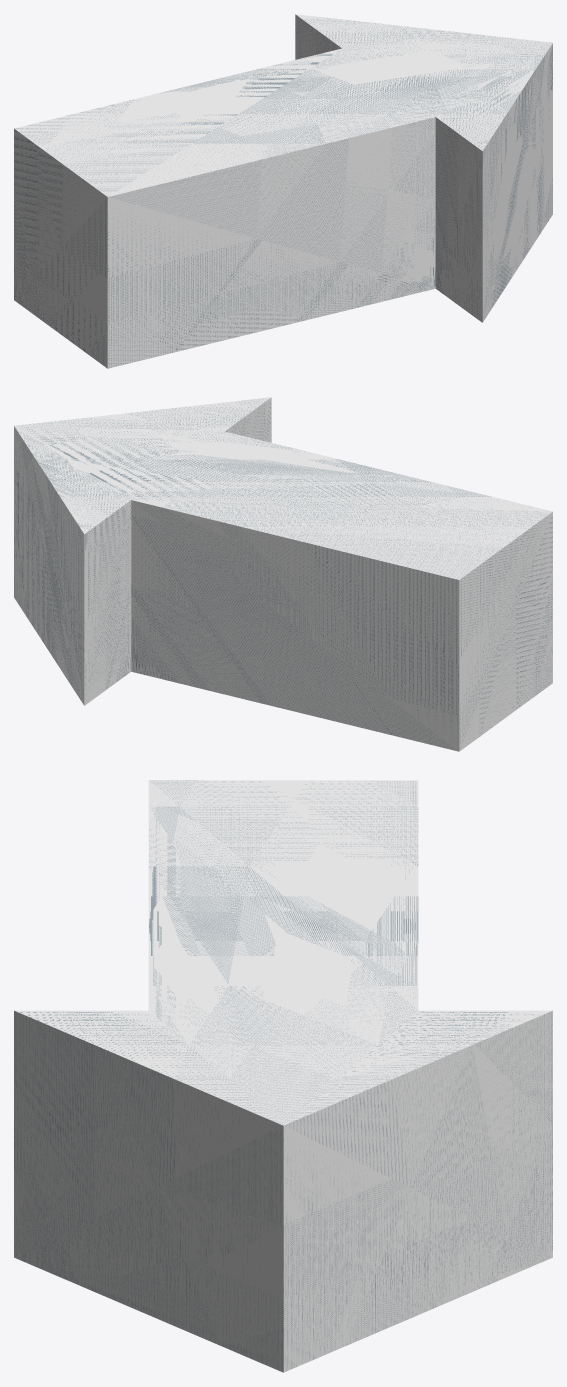
File: Arrow.fbx
3 views of the same model, one above another, from view 1: azimuth 30°, elevation 25°; view 2: azimuth 150°, elevation 25°; view 3: azimuth 270°, elevation 25° (orthographic). The views are drawn at different scales.
Parts seen in each view (by area): view 1: Group_1; view 2: Group_1; view 3: Group_1.
Boxes of the visible parts, x1,y1,x2,y2 form: Group_1: [14, 14, 552, 368]; Group_1: [14, 397, 552, 751]; Group_1: [14, 780, 552, 1372].
Size of the model in its own units: 1350 by 450 by 890.
